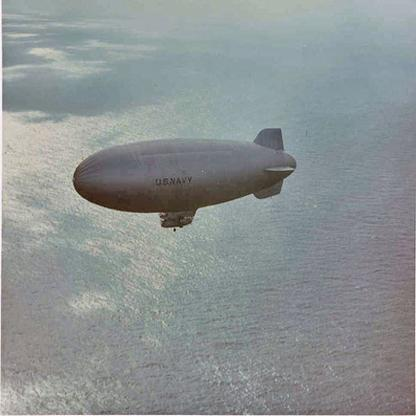Airship: (64, 124, 302, 232)
